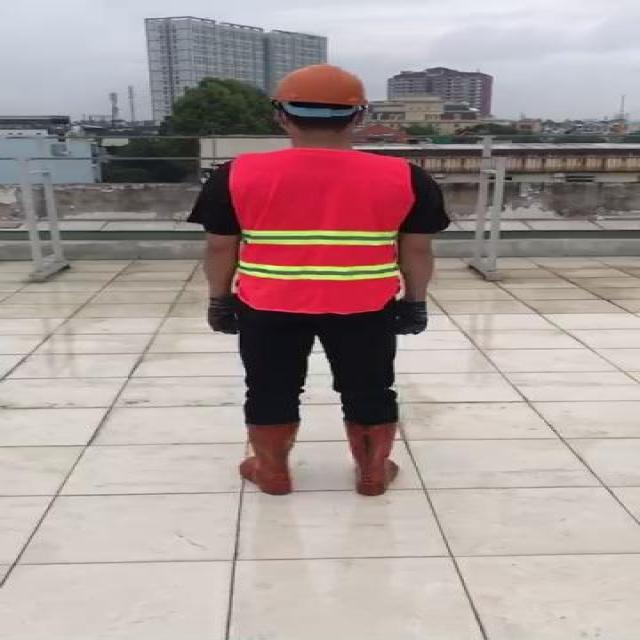boots: (340, 419, 407, 498), (238, 421, 300, 496)
hand_glove: (202, 297, 244, 334), (395, 302, 430, 337)
head_helmet: (268, 62, 370, 105)
person: (180, 58, 452, 506)
vest: (229, 150, 407, 310)
